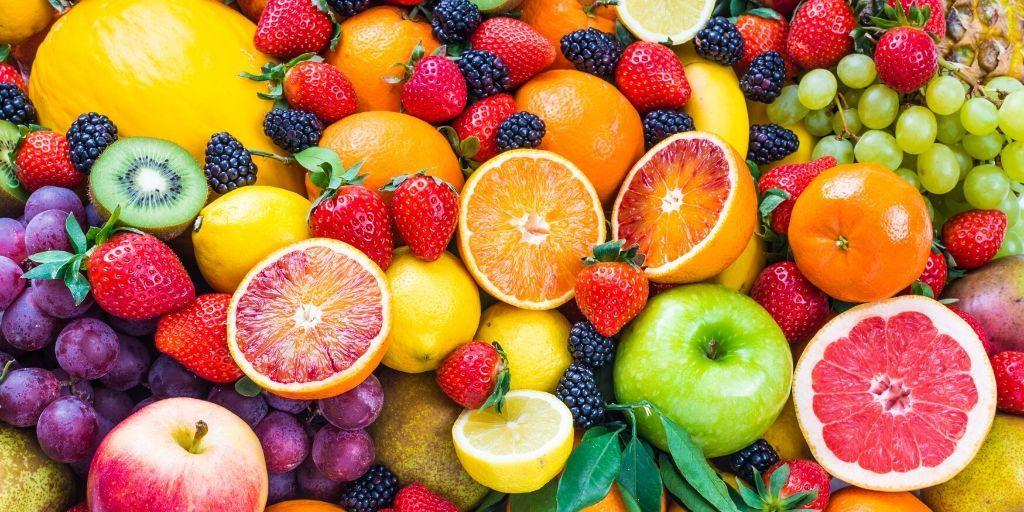apple: (613, 286, 795, 456), (84, 396, 271, 511), (941, 255, 1024, 354)
